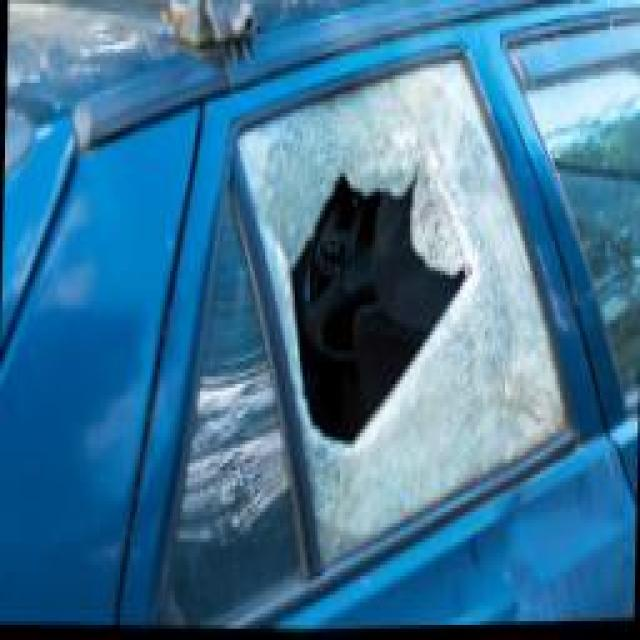Door: (235, 53, 592, 634)
